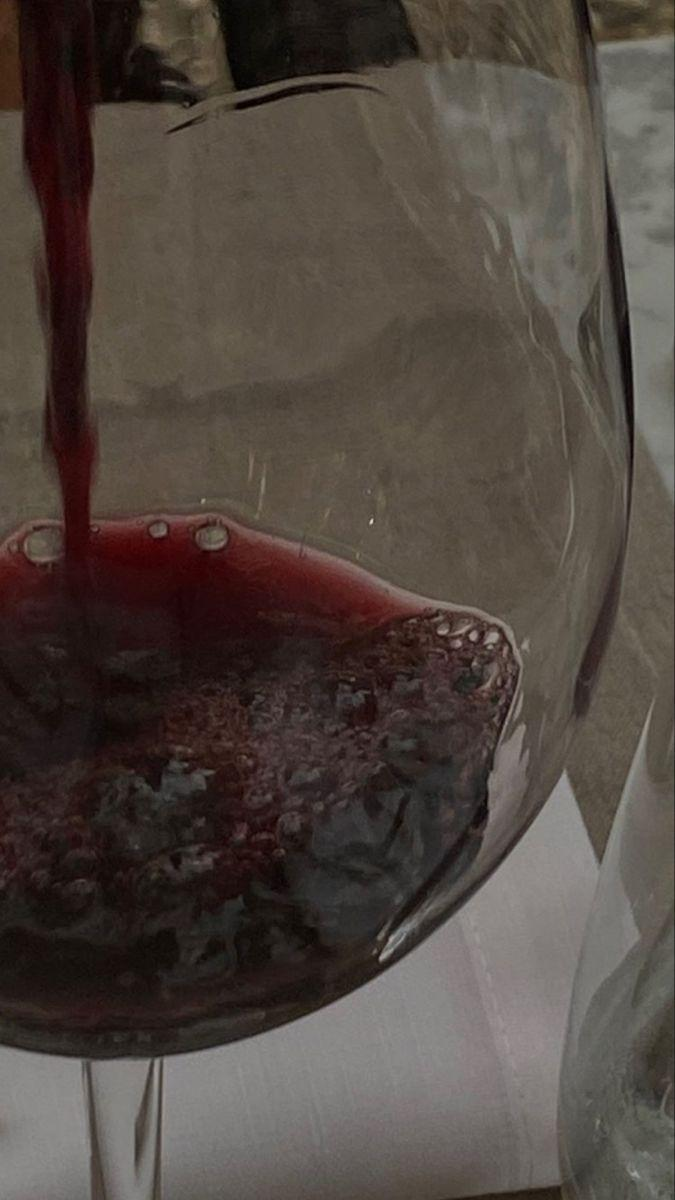glass-wine: (0, 4, 646, 1200)
